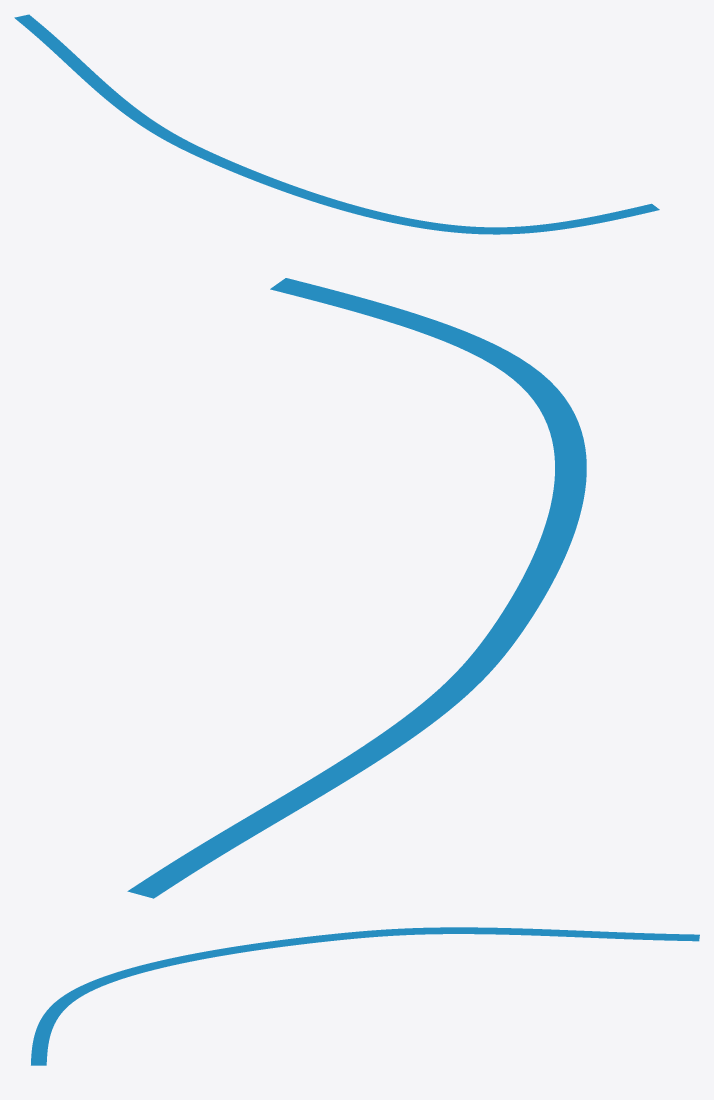
The model's file is guide.glb.
3 views of the same model, one above another, from view 1: azimuth 30°, elevation 25°; view 2: azimuth 150°, elevation 25°; view 3: azimuth 270°, elevation 25° (orthographic). The views are drawn at different scales.
Visible parts, largest first — view 1: static; view 2: static; view 3: static.
Boxes of the visible parts, x1,y1,x2,y2 form: static: (14,14,659,234); static: (127,278,586,898); static: (31,927,699,1065).
Size of the model in its own units: 7.55 by 0 by 13.84.
